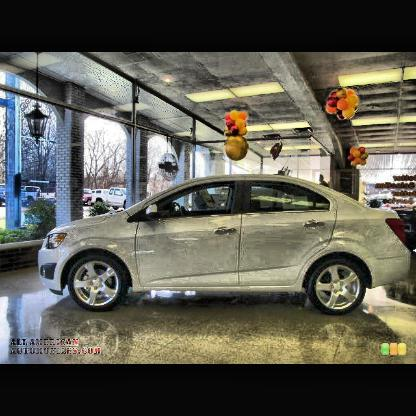Chevrolet Sonic Sedan 2012: (38, 175, 412, 319)
